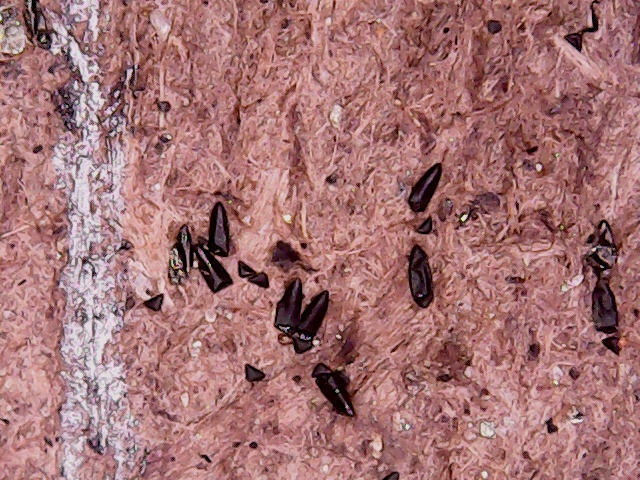full: (584, 275, 629, 359), (397, 241, 444, 318), (309, 360, 361, 420), (290, 287, 337, 348), (191, 246, 231, 305), (586, 212, 619, 274), (410, 153, 441, 215), (167, 224, 197, 285), (203, 201, 235, 253), (278, 278, 303, 335)
